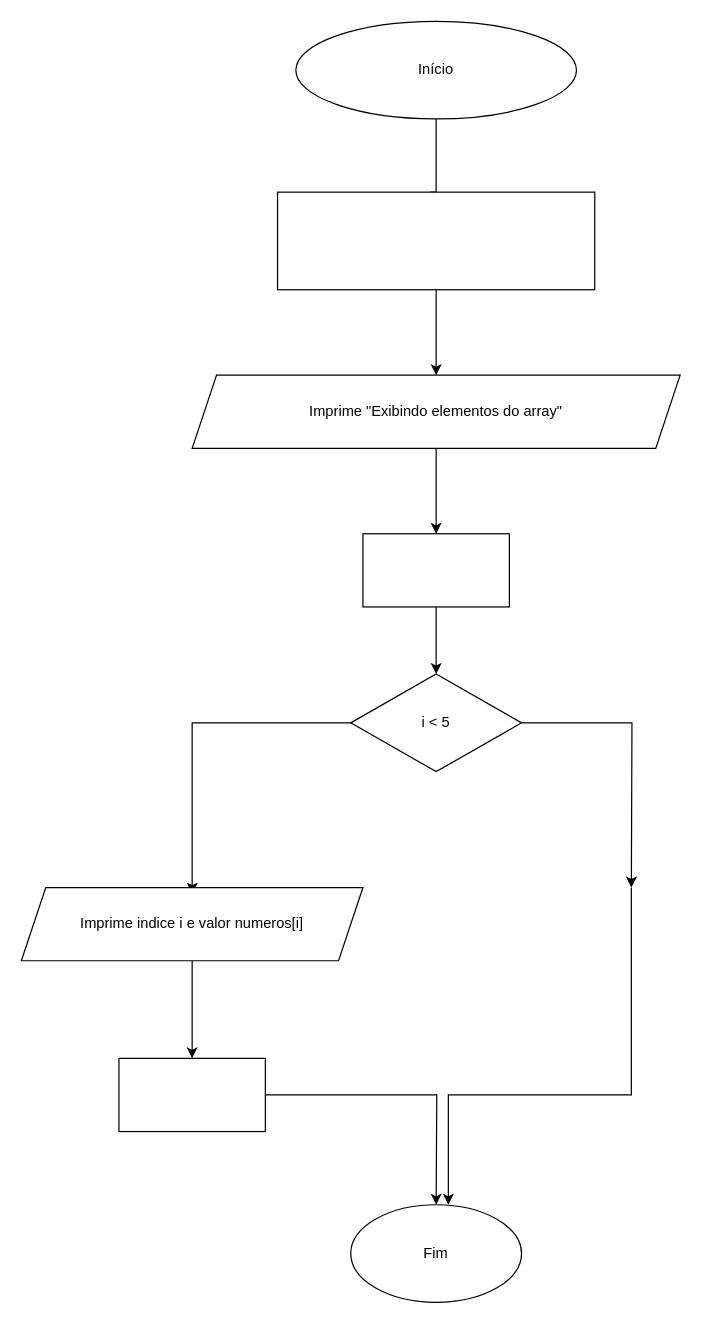
This 702x1324 diagram has some shape labels left out. Each missing label, with the box of its shape:
i = 0: (362, 533, 509, 607)
i = i + 1: (118, 1057, 265, 1132)
int numeros[5] = {10,20,30,40,50}: (276, 191, 595, 290)
